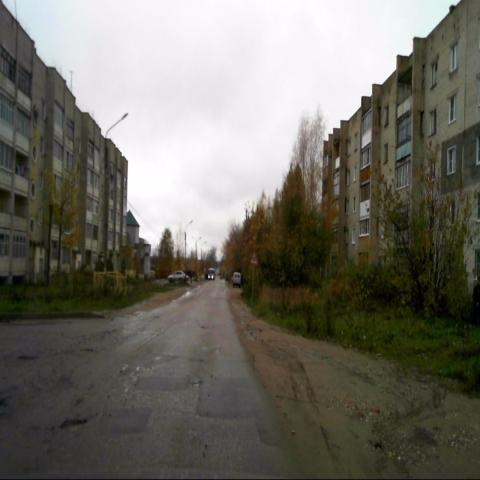1_23: (249, 250, 258, 267)
